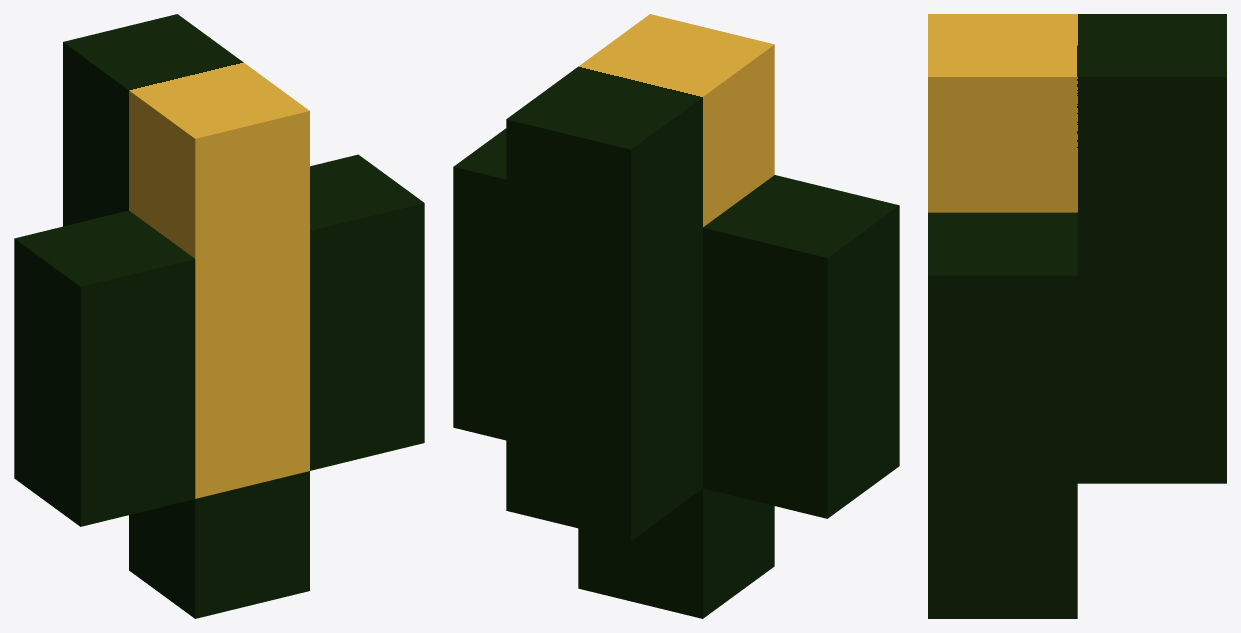
Rendered from corn.dae.
The picture shows the model from 3 angles, left to right: view 1: azimuth 30°, elevation 25°; view 2: azimuth 150°, elevation 25°; view 3: azimuth 270°, elevation 25°; orthographic projection. The views are drawn at different scales.
Parts seen in each view (by area): view 1: corn; view 2: corn; view 3: corn.
Boxes of the visible parts, x1,y1,x2,y2 form: corn: [14, 14, 424, 618]; corn: [453, 14, 899, 618]; corn: [928, 14, 1226, 618].
Size of the model in its own units: 0.3 by 0.4 by 0.2.
1 material, 1 textured.
